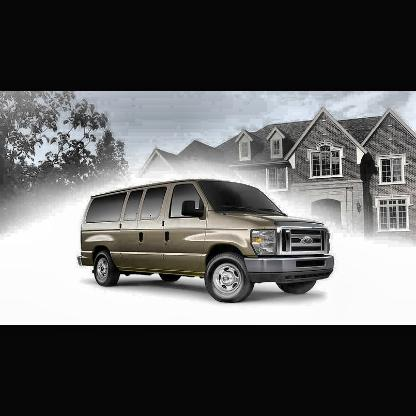Ford E-Series Wagon Van 2012: (79, 179, 335, 301)
